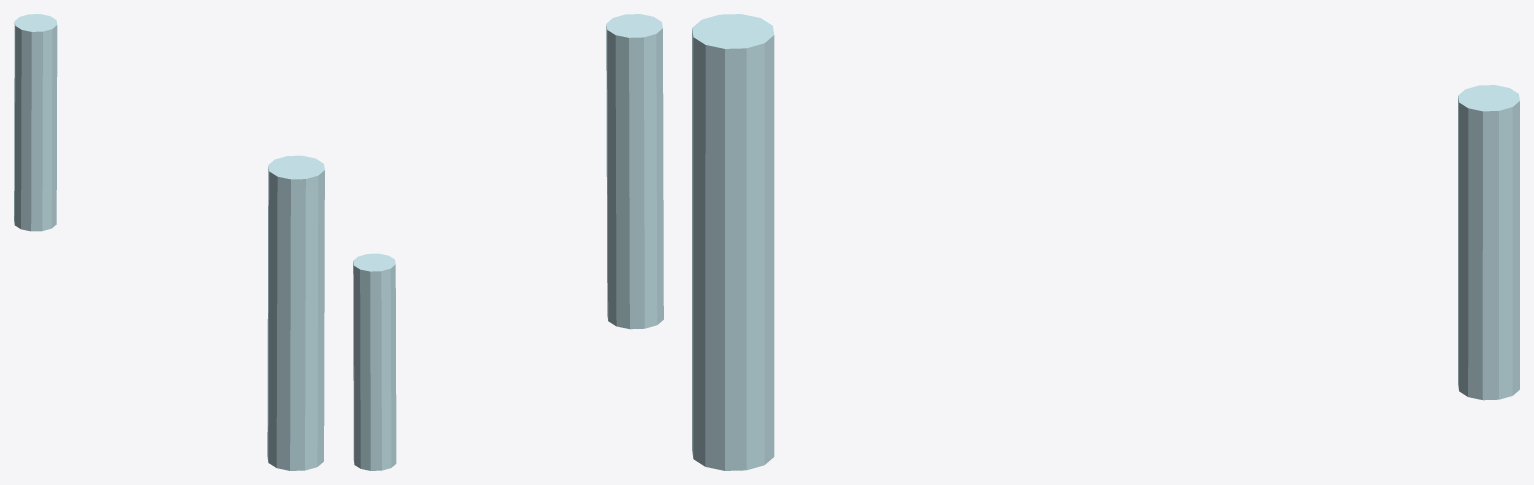
Rendered from industrial_06397_Lfinger_respondable_respondable_respondable_respondable_respondable_visual_vis_2.dae.
3 views of the same model, side by side, from view 1: azimuth 30°, elevation 25°; view 2: azimuth 150°, elevation 25°; view 3: azimuth 270°, elevation 25° (orthographic). The views are drawn at different scales.
Visible parts, largest first — view 1: node; view 2: node; view 3: node.
Part boxes in pixels (x1,y1,x2,y2): node: [14, 14, 324, 470]; node: [353, 14, 663, 470]; node: [692, 14, 1519, 470].
Size of the model in its own units: 0.00631 by 0.0352 by 0.0625.
